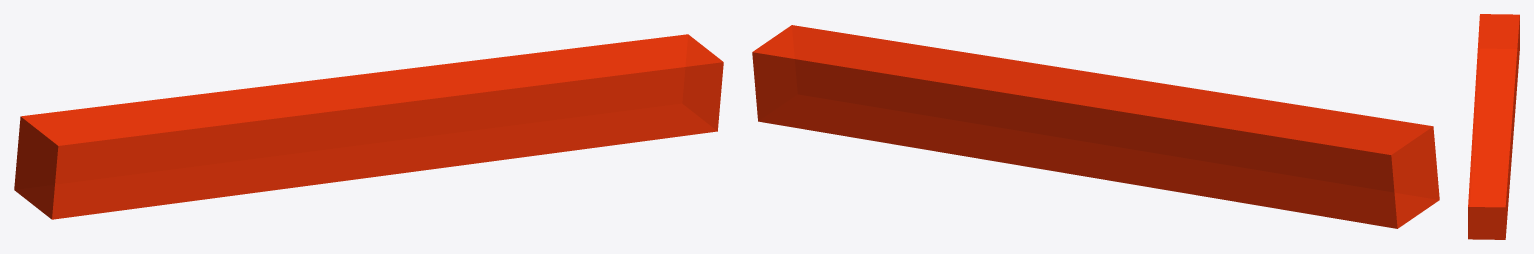
File: Event_420107950_EErechit_3.fbx
The picture shows the model from 3 angles, left to right: view 1: azimuth 30°, elevation 25°; view 2: azimuth 150°, elevation 25°; view 3: azimuth 270°, elevation 25°; orthographic projection. The views are drawn at different scales.
Parts seen in each view (by area): view 1: Model; view 2: Model; view 3: Model.
Part boxes in pixels (bbox=[...]): Model: bbox=[14, 34, 723, 219]; Model: bbox=[752, 25, 1439, 228]; Model: bbox=[1468, 14, 1519, 239].
Bounding box in the file's own units: 0.7367 × 0.1436 × 0.1001.
